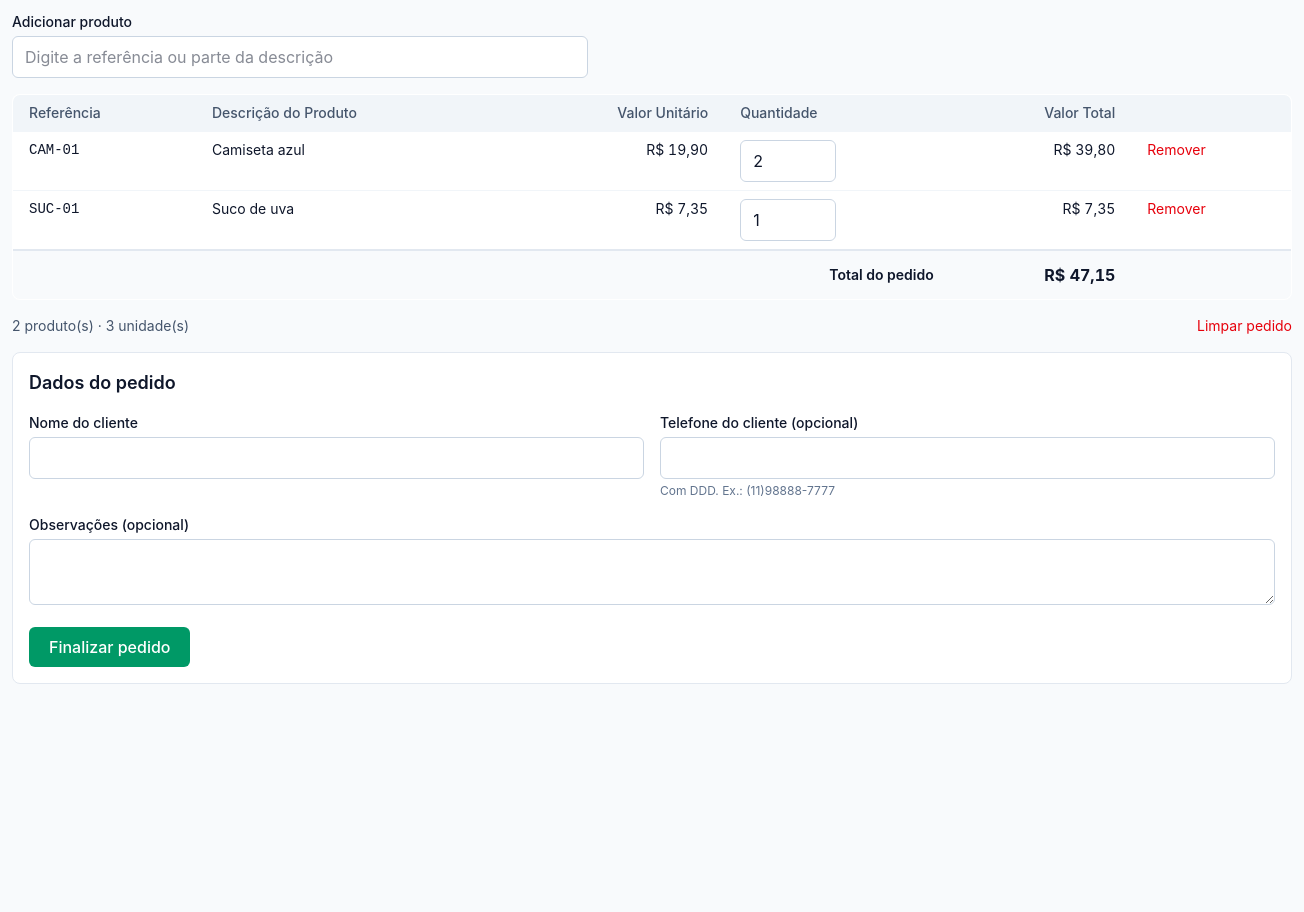
Scenario: edição e cálculo automático › quantidade inválida abc: avisa, mostra '—' e fica fora do total
Replace the text in the field named "Quantidade de CAM-01" with "abc" at (788,161), box [740,140,836,182]
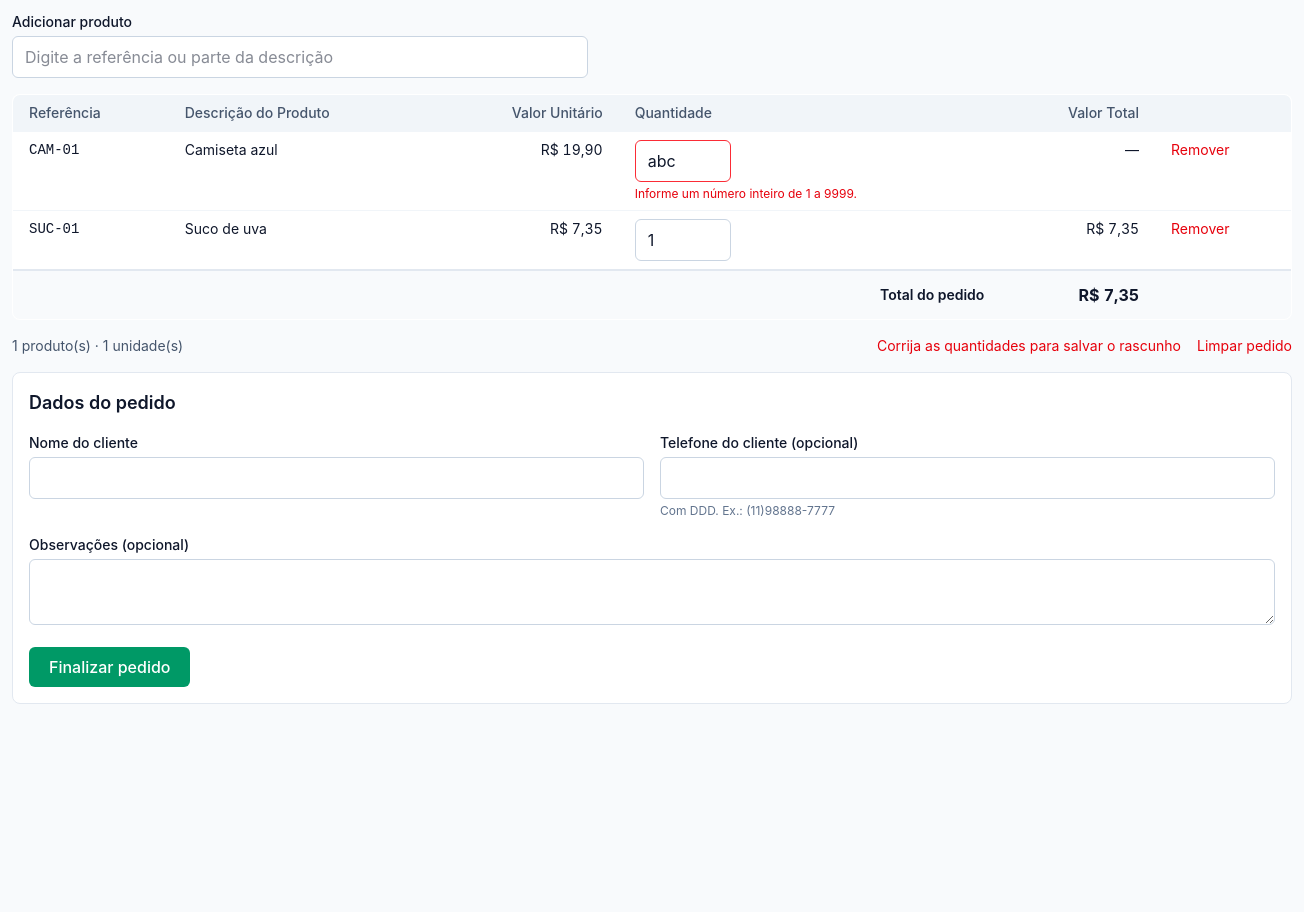
Result: the message "Informe um número inteiro de 1 a 9999." is shown at [635,186,857,201]
Result: the cell with test id "line-total" reads "—" at [1125,141,1139,158]
Result: the message with test id "save-status" reads "Corrija as quantidades para salvar o rascunho" at [877,337,1181,354]
